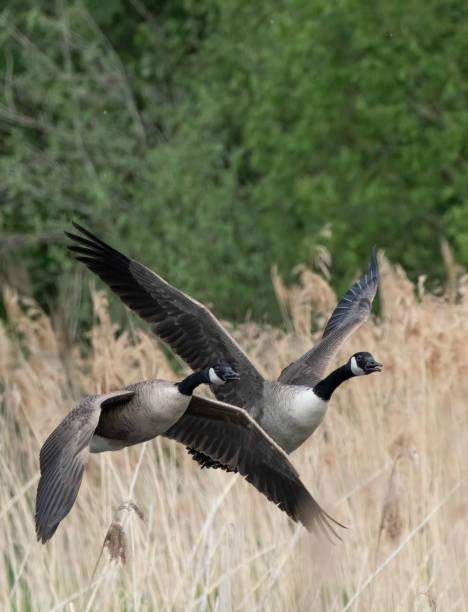Canadian-Goose: (57, 212, 398, 434), (28, 356, 309, 554)
